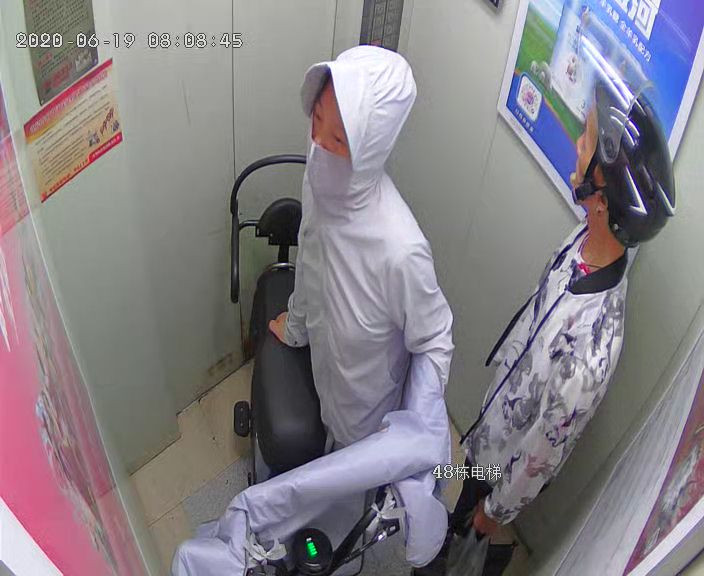Electric-bicycle: (221, 171, 430, 576)
